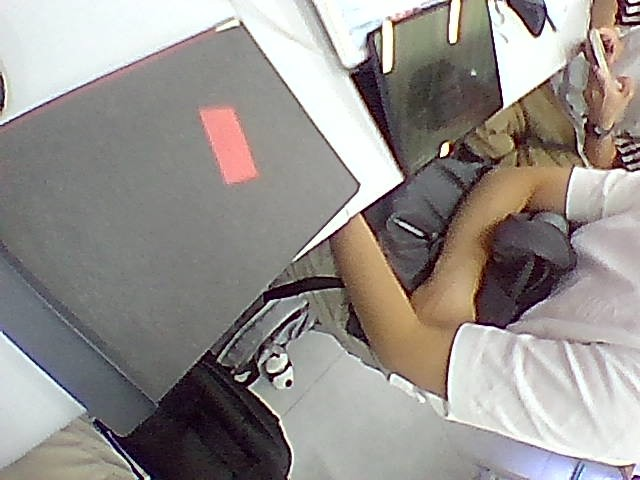card: (200, 107, 258, 183)
